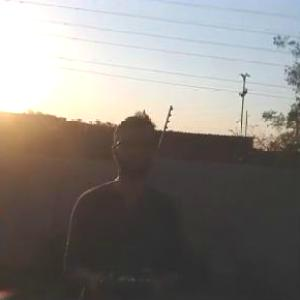follow: (57, 112, 194, 299)
